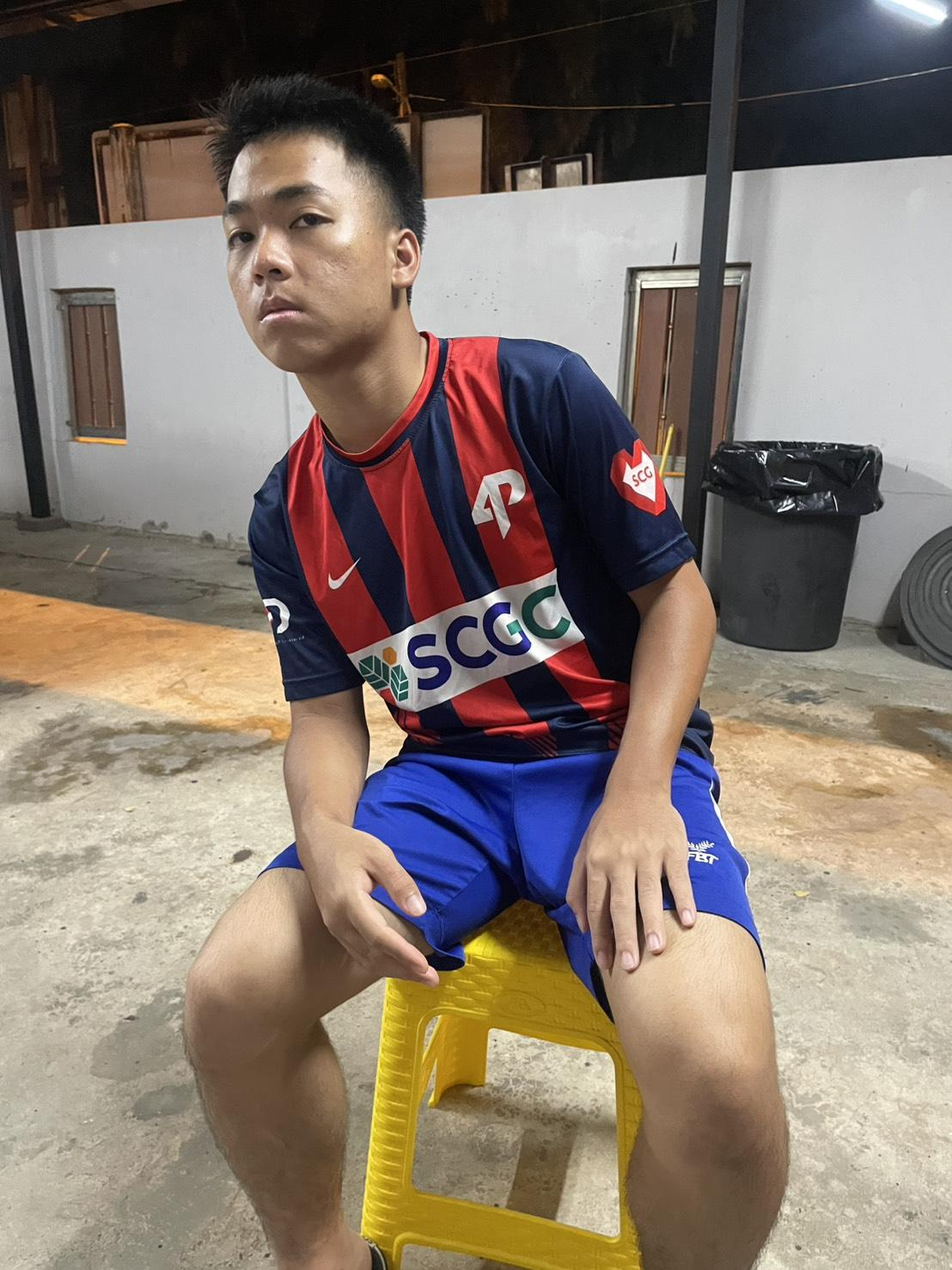BadPosture: (208, 75, 709, 762), (209, 98, 696, 761)
